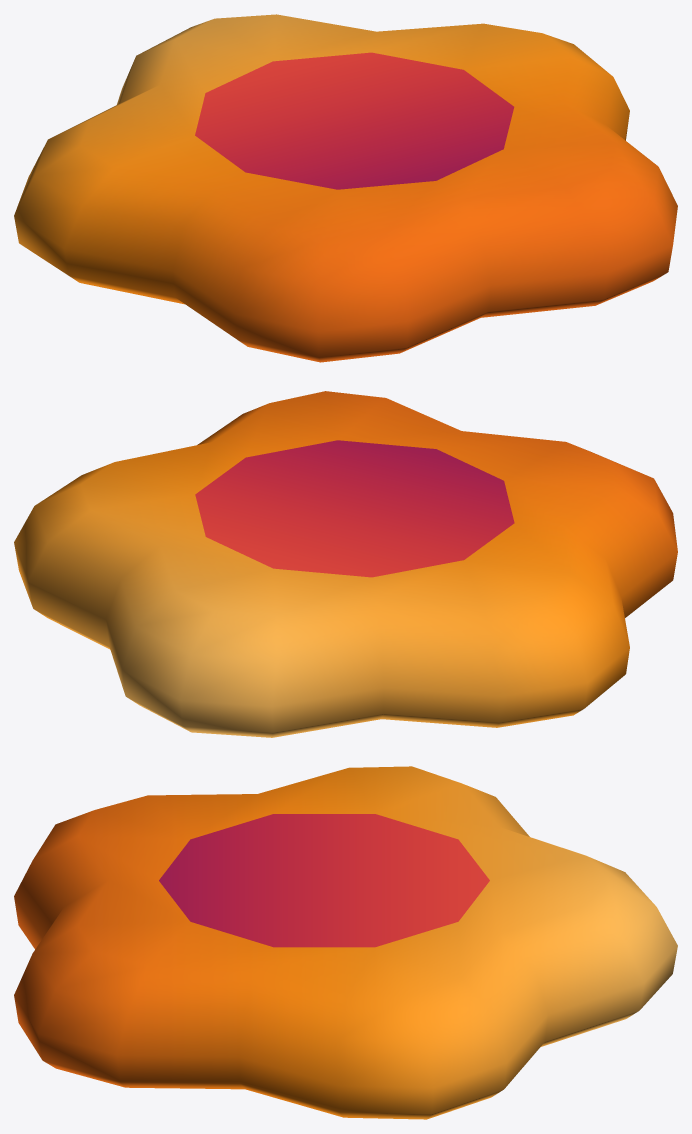
File: cookie_002.fbx
3 renders of one model, top to bottom at view 1: azimuth 30°, elevation 25°; view 2: azimuth 150°, elevation 25°; view 3: azimuth 270°, elevation 25°, orthographic.
Parts seen in each view (by area): view 1: cookie_002; view 2: cookie_002; view 3: cookie_002.
Boxes of the visible parts, box(x1,y1,x2,y2) form: cookie_002: box(14, 14, 677, 362); cookie_002: box(14, 391, 677, 737); cookie_002: box(14, 766, 677, 1119).
Bounding box in the file's own units: 5.91 × 5.83 × 1.02.
